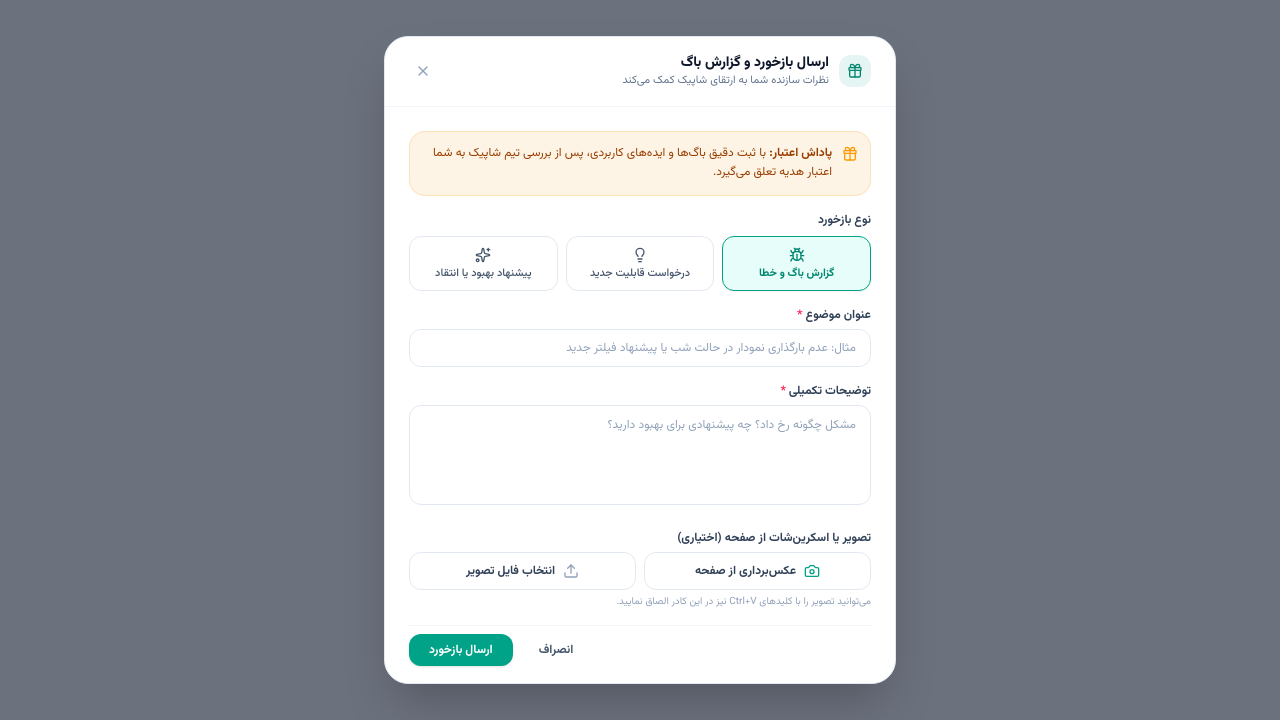
Scenario: [component] FeedbackModal › submits feedback successfully with payload and displays confirmation
// Select category
Click the button "درخواست قابلیت جدید" at (640, 263), box [566,236,714,291]
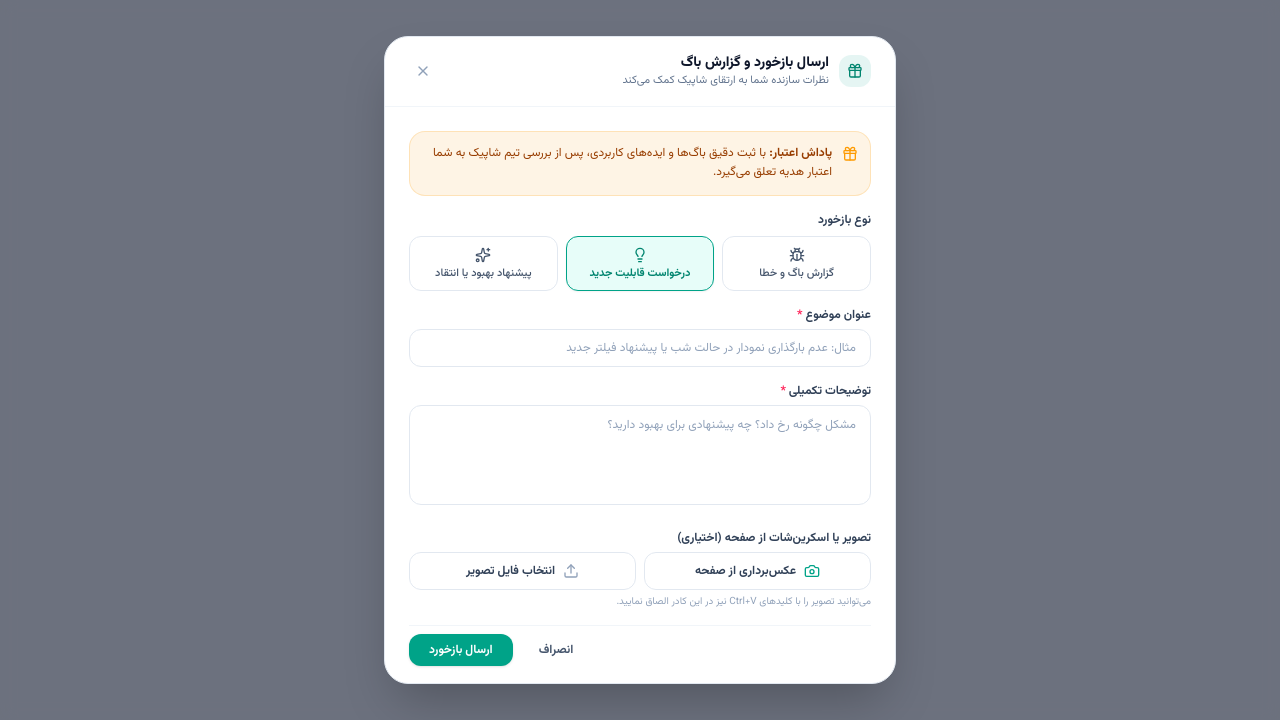
// Fill title
Type "افزودن خروجی اکسل پیشرفته" into the field with placeholder "مثال: عدم بارگذاری نمودار در حالت شب یا پیشنهاد فیلتر جدید" at (640, 348), box [409,329,871,367]
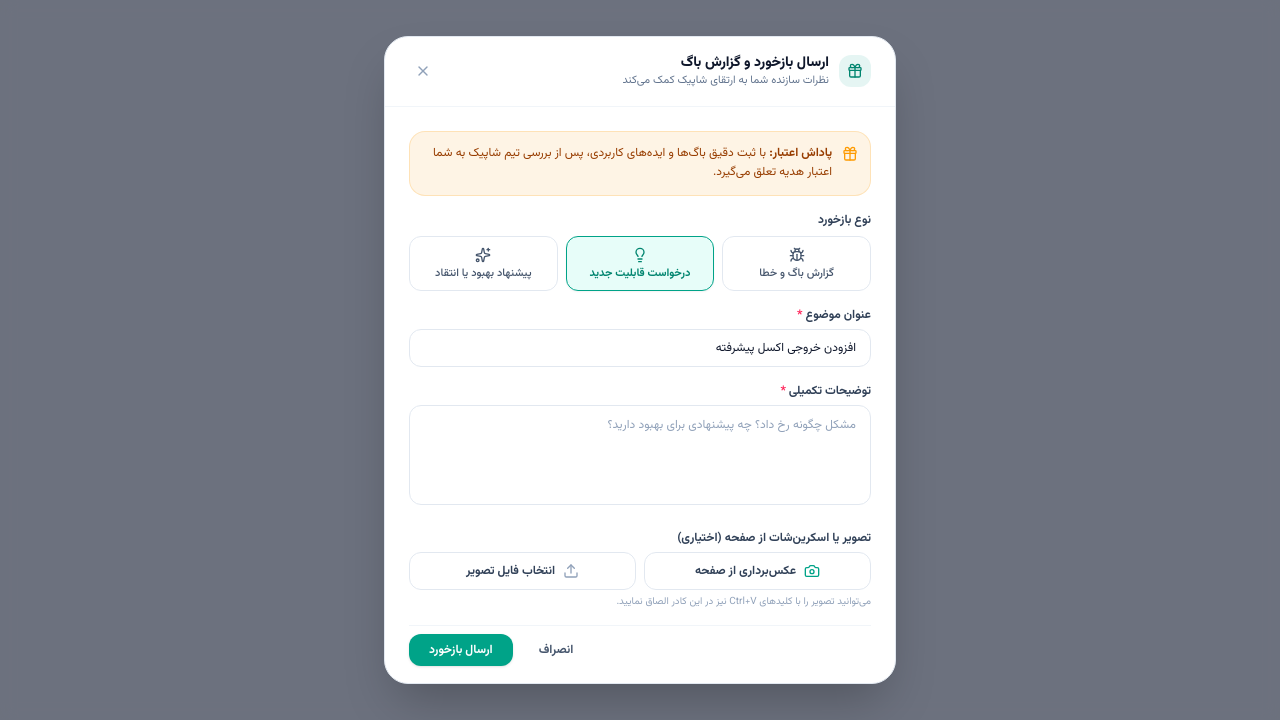
// Fill description
Type "لطفاً امکان سفارشی‌سازی ستون‌ها اضافه شود." into the text box with placeholder "مشکل چگونه رخ داد؟ چه پیشنهادی برای بهبود دارید؟" at (640, 455), box [409,405,871,505]
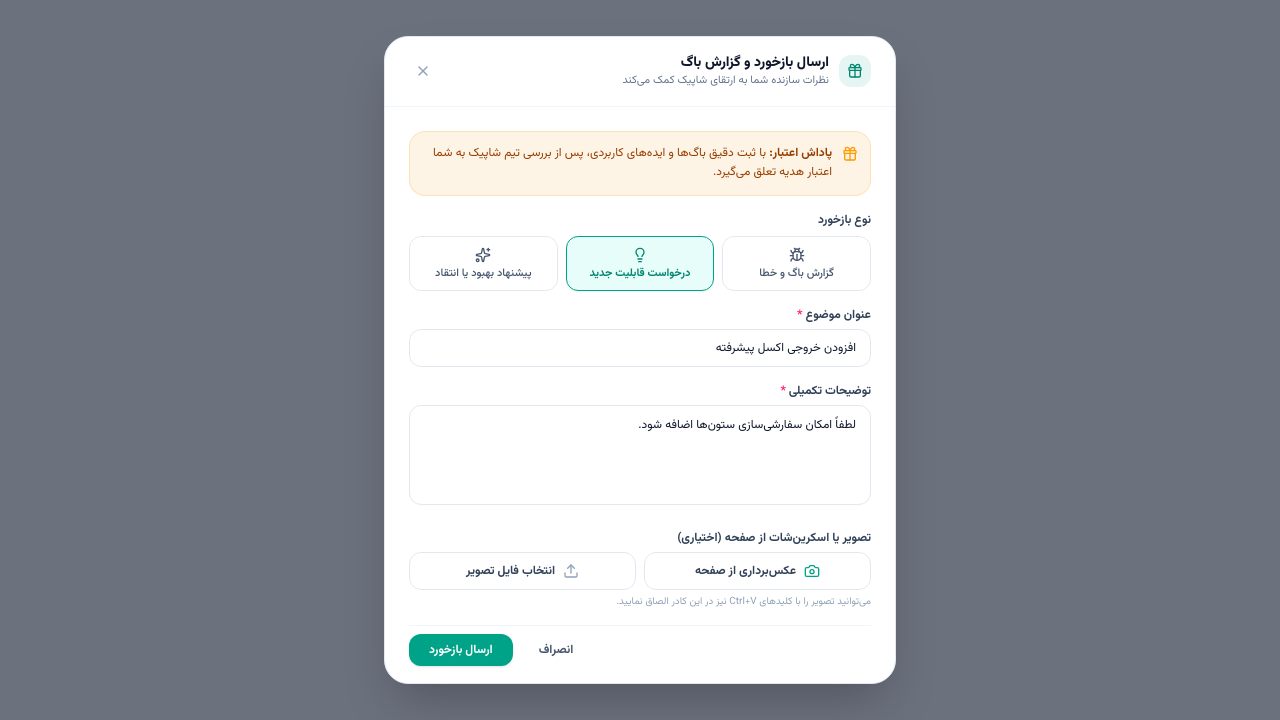
Click the button "ارسال بازخورد" at (461, 650), box [409,634,513,666]
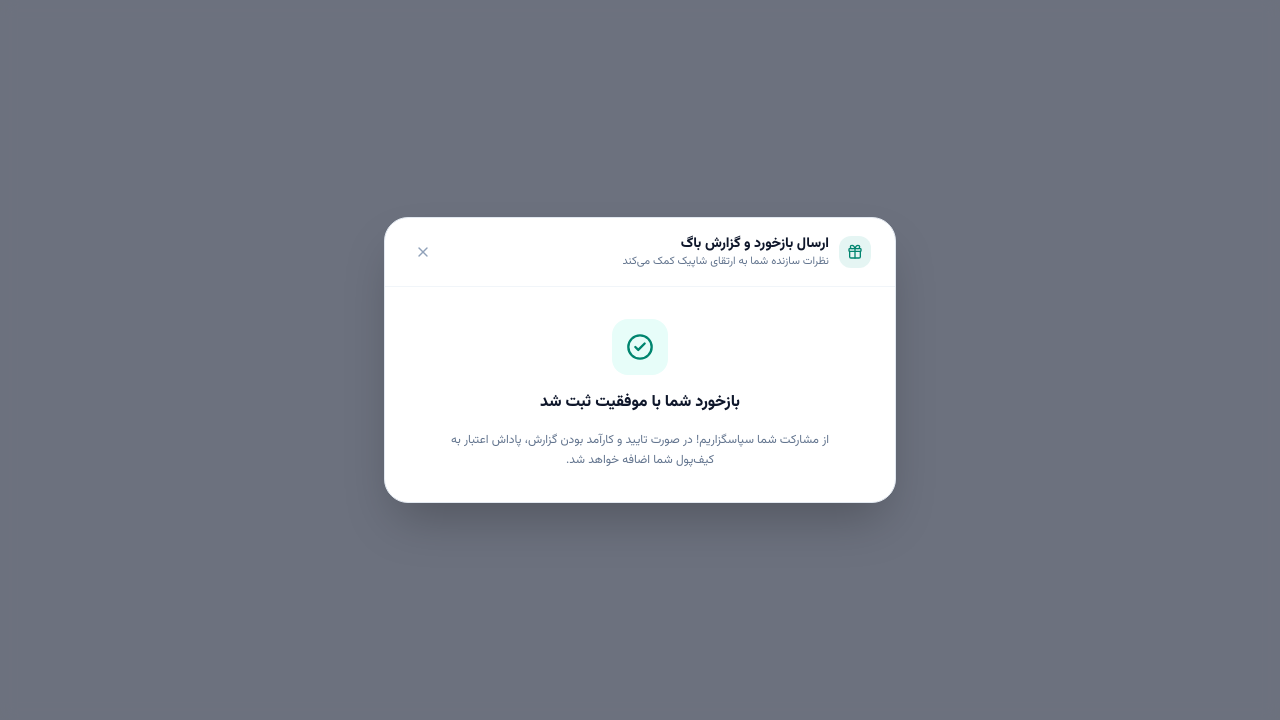
Result: the heading "بازخورد شما با موفقیت ثبت شد" is shown at [540,390,740,415]
